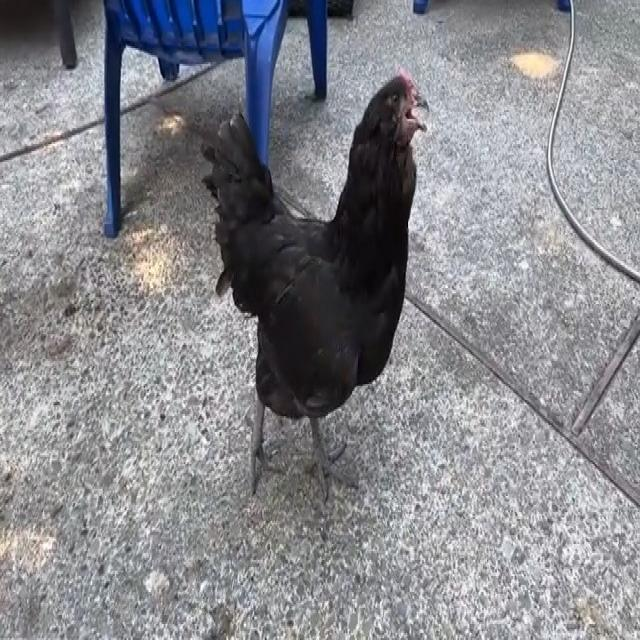Breathing: (198, 68, 430, 502)
